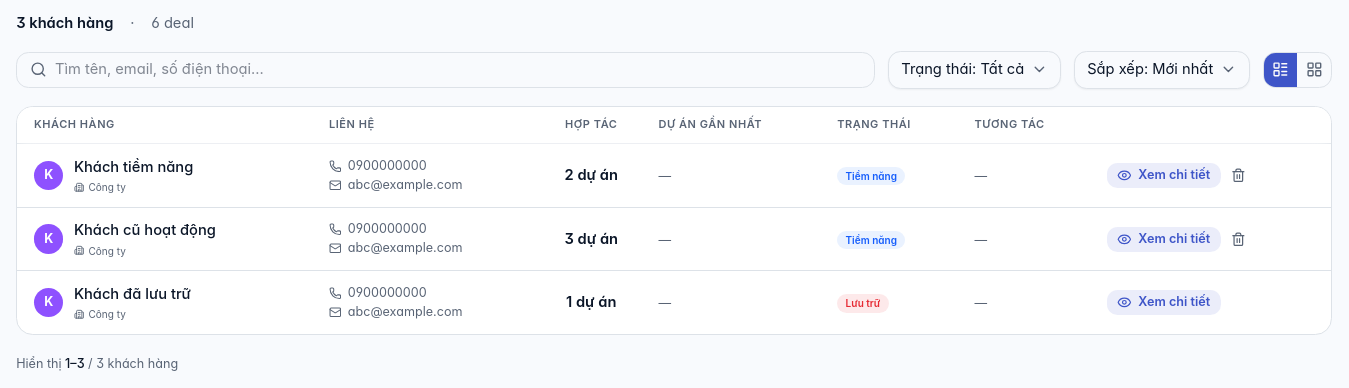
Test: <ClientRecords /> — bộ lọc trạng thái › chỉ có ba mục: Tất cả, Tiềm năng, Lưu trữ
Click the dropdown labelled "Trạng thái: Tất cả ▼" at {"x": 974, "y": 70}, box [888,51,1061,89]
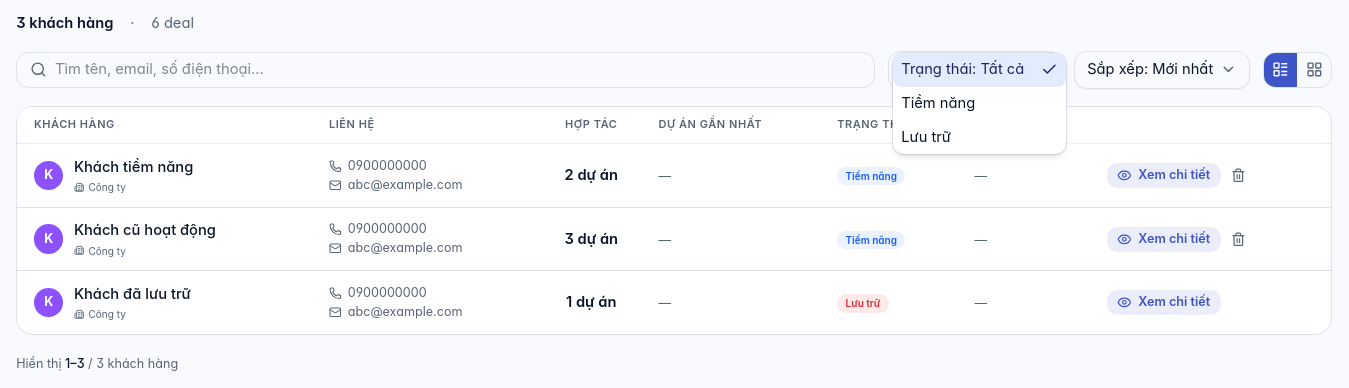
Expected: the options read "Trạng thái: Tất cả", "Tiềm năng", "Lưu trữ", in this order, [893,53,1066,87]; [901,94,975,112]; [901,128,951,146]
